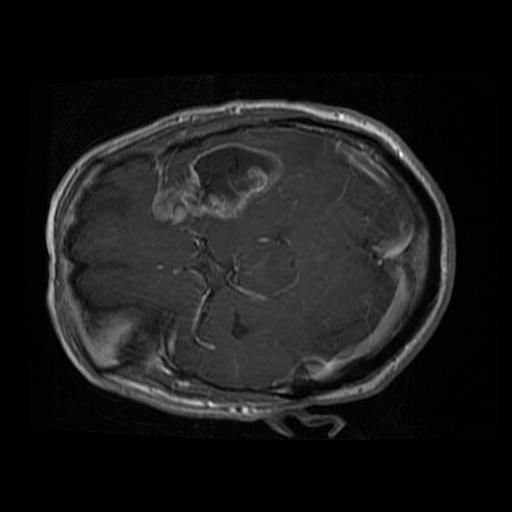glioma: (149, 139, 286, 229)
